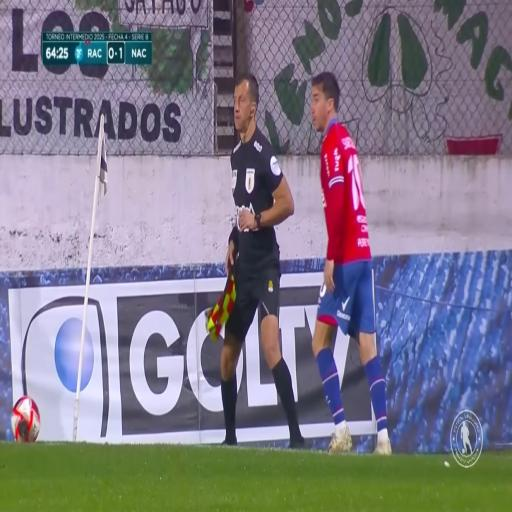Ball: (8, 394, 40, 448)
Player: (314, 63, 388, 460)
Referee: (220, 74, 278, 442)
